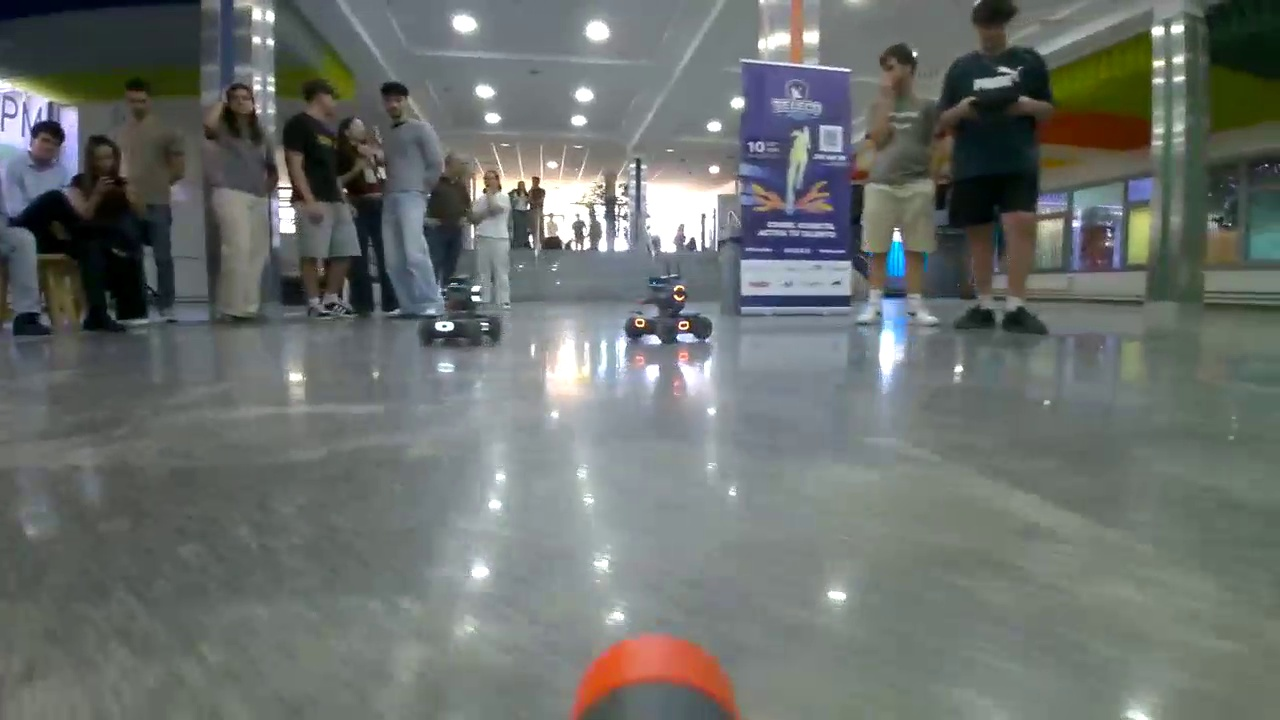robot: (625, 268, 712, 342), (418, 272, 502, 345)
